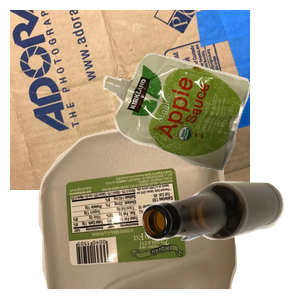cardboard: (10, 10, 250, 190)
glass: (140, 179, 300, 300)
plastic: (36, 120, 265, 300)
trash: (100, 51, 300, 214)
